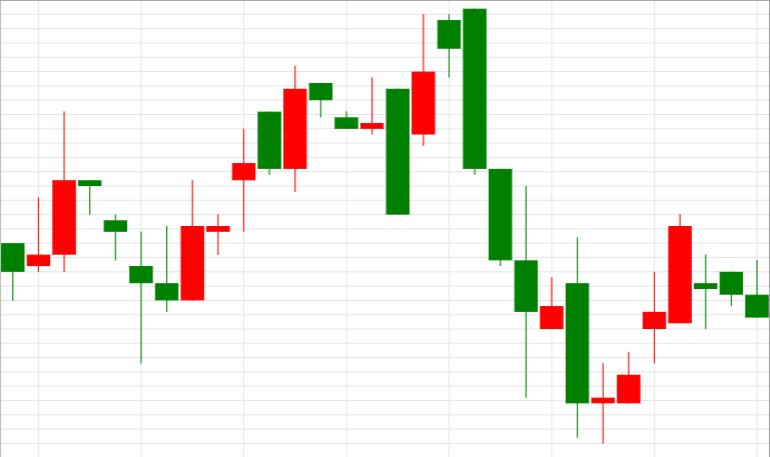three_black_crows_fall: (360, 9, 538, 397)
